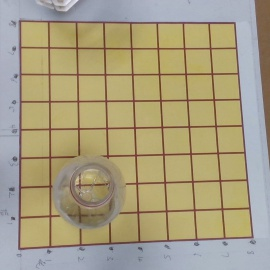bottle: (50, 153, 129, 230)
